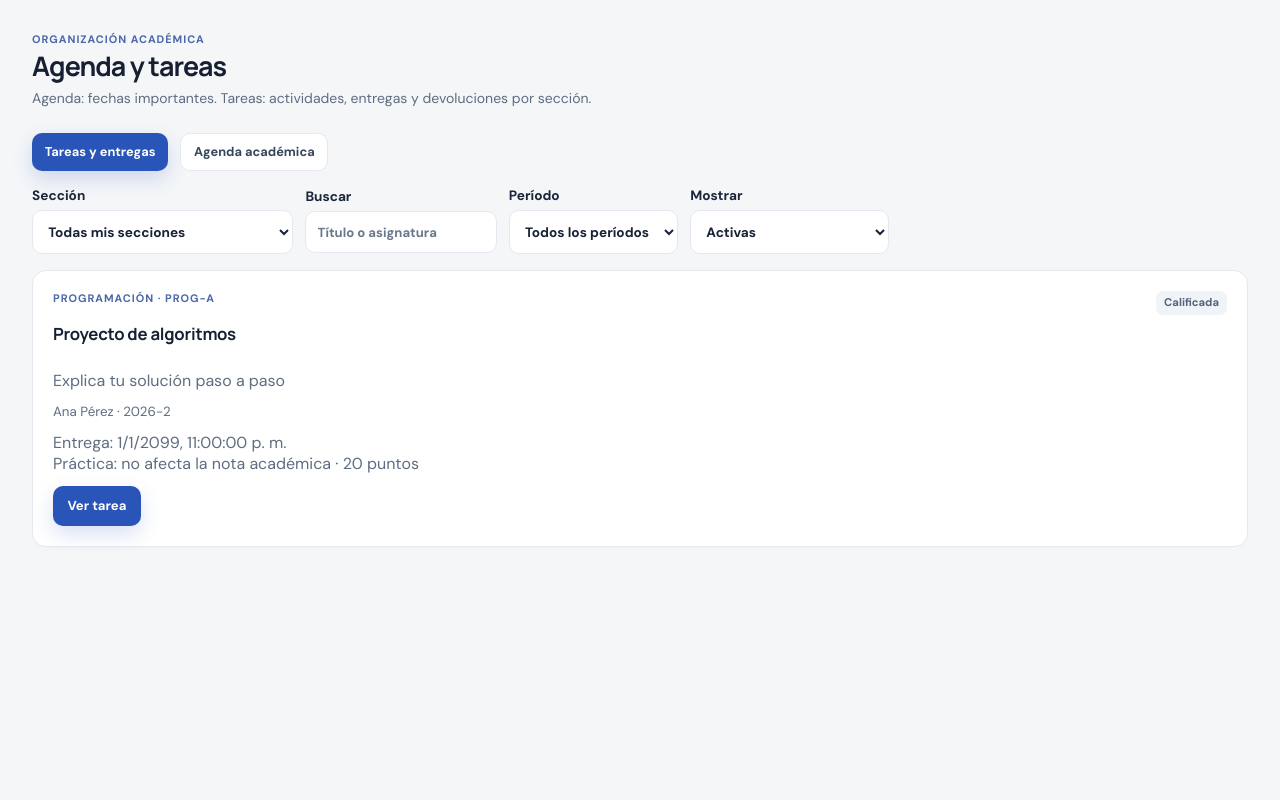
Test: preserves a graded zero and prevents resubmission
Click the button "Ver tarea". click: (97, 506)
box: [53, 486, 141, 526]
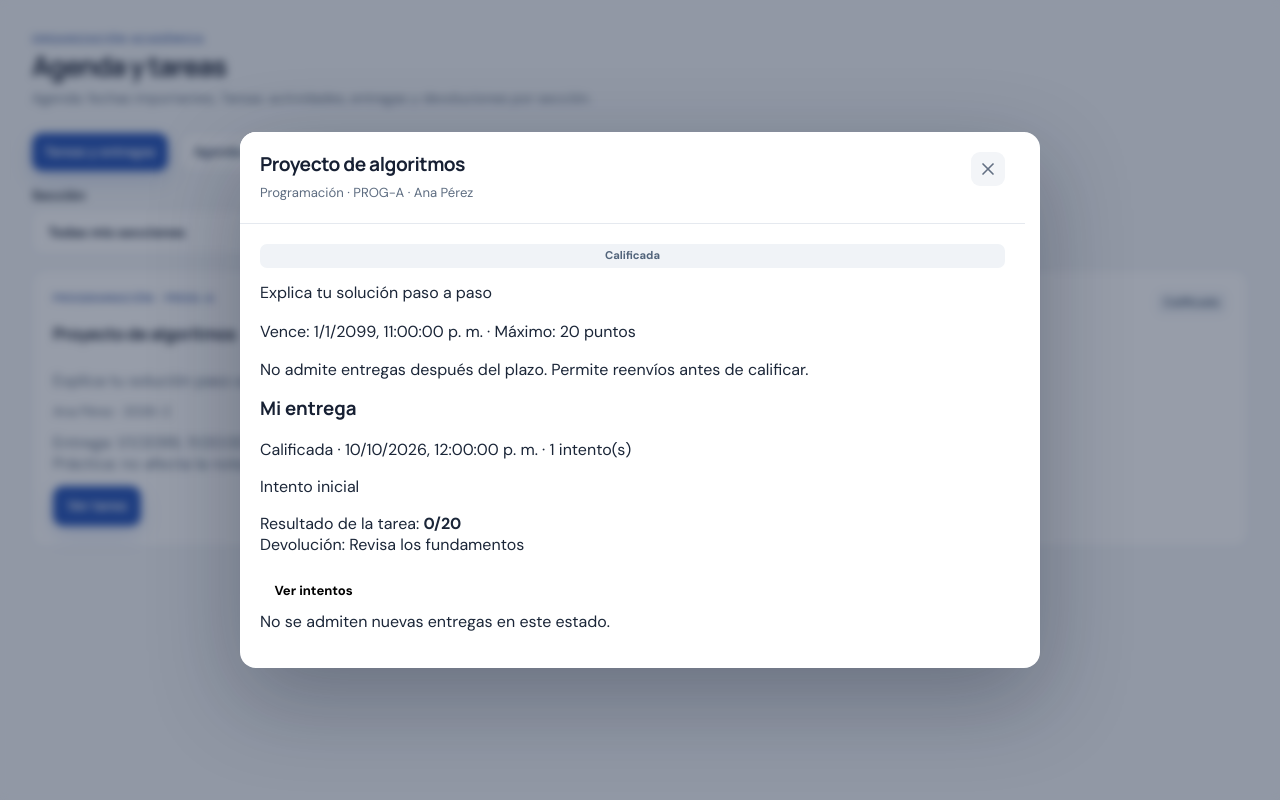
Expected: the text "0/20" is shown, [423, 513, 461, 534]
Expected: the text "Revisa los fundamentos" is shown, [349, 534, 524, 555]
